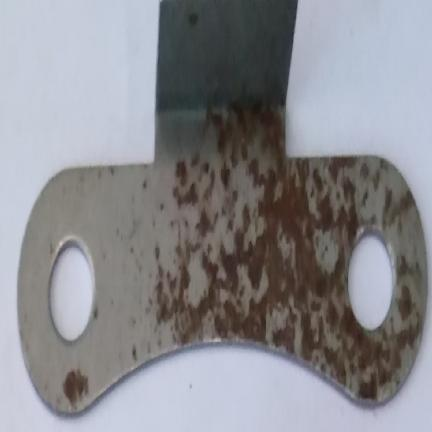karat: (177, 102, 361, 367)
